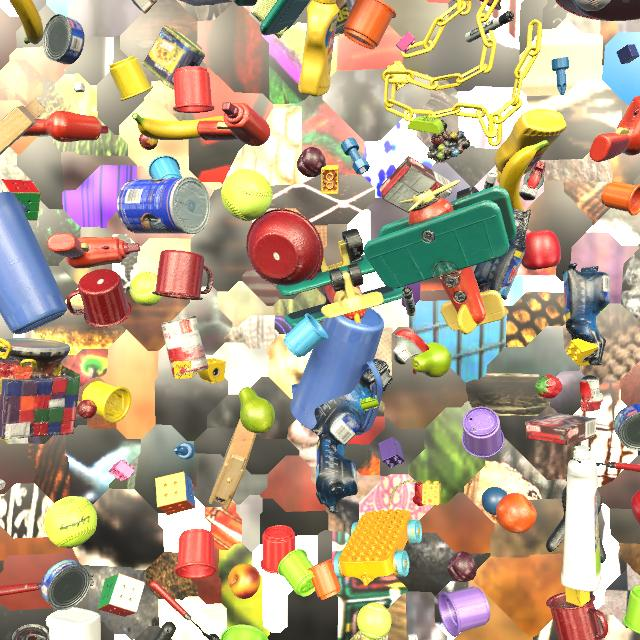ycb_002_master_chef_can: (117, 177, 211, 234)
ycb_005_tomato_soup_can: (161, 316, 209, 377), (12, 624, 49, 640)
ycb_006_mustard_bottle: (494, 109, 567, 183), (298, 0, 340, 97)
ycb_007_tuna_fish_can: (40, 559, 91, 610), (42, 14, 85, 65), (614, 404, 640, 450)
ycb_008_pudding_box: (379, 156, 452, 214), (525, 413, 597, 446), (131, 0, 157, 14)
ycb_009_gelatin_box: (179, 0, 232, 6)
ycb_010_potted_meat_can: (141, 25, 205, 90), (335, 0, 355, 36), (454, 0, 457, 1)
ycb_011_banana: (499, 140, 548, 211), (132, 113, 224, 140), (9, 0, 43, 44)
ycb_012_strawberry: (535, 374, 563, 398)
ycb_013_apple: (521, 230, 561, 270), (631, 490, 640, 524)
ycb_015_peach: (228, 563, 261, 599)
ycb_016_pear: (239, 387, 275, 433), (412, 342, 452, 378)
ycb_017_orange: (496, 493, 537, 533)
ycb_018_plum: (447, 551, 477, 582), (297, 147, 326, 177)
